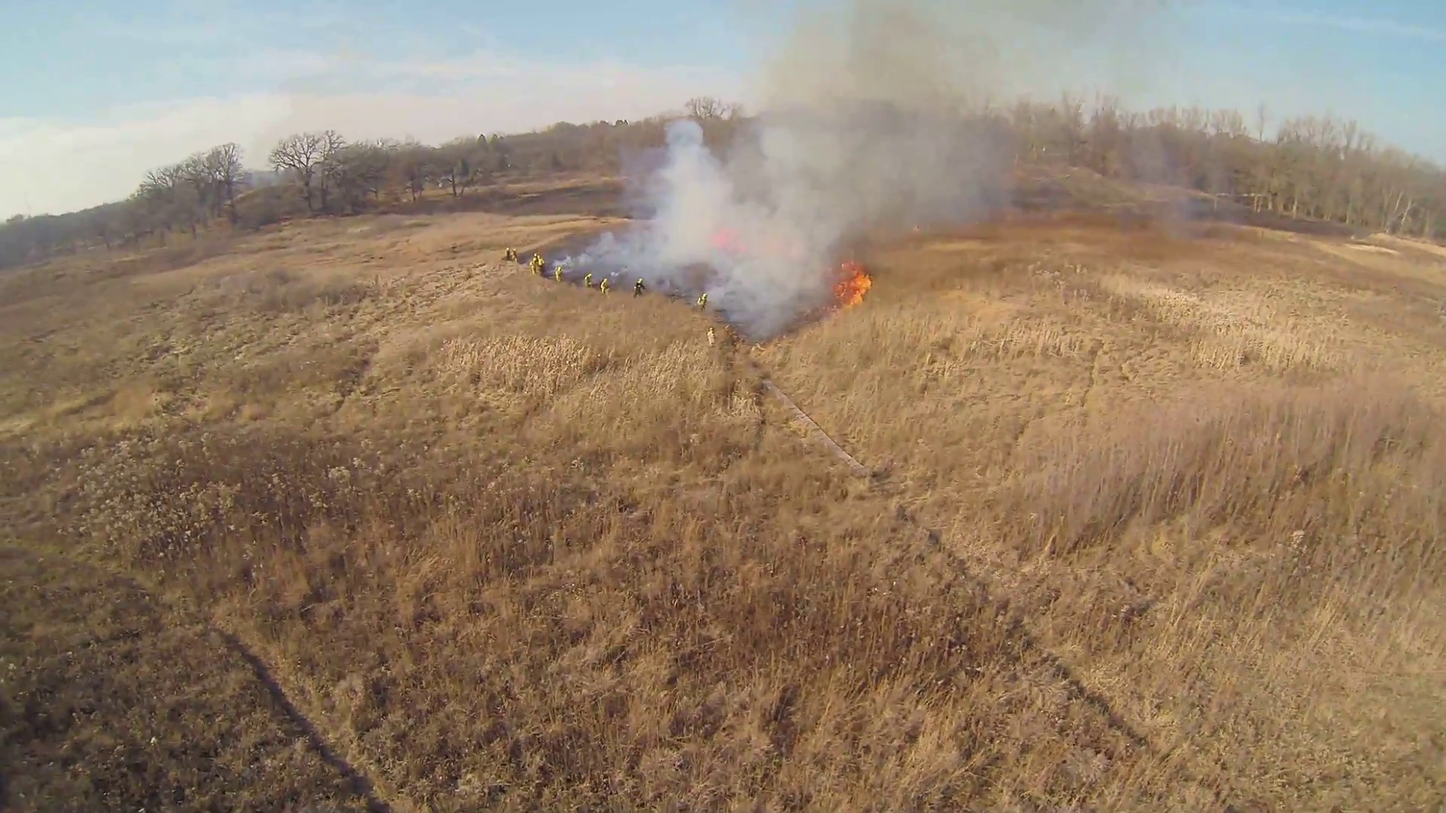forest_fire: (834, 261, 871, 307)
